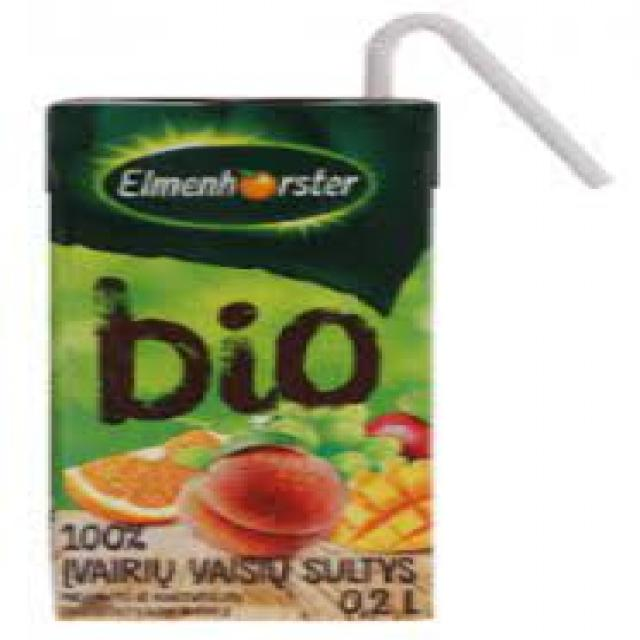non_white_jug: (14, 82, 447, 622)
